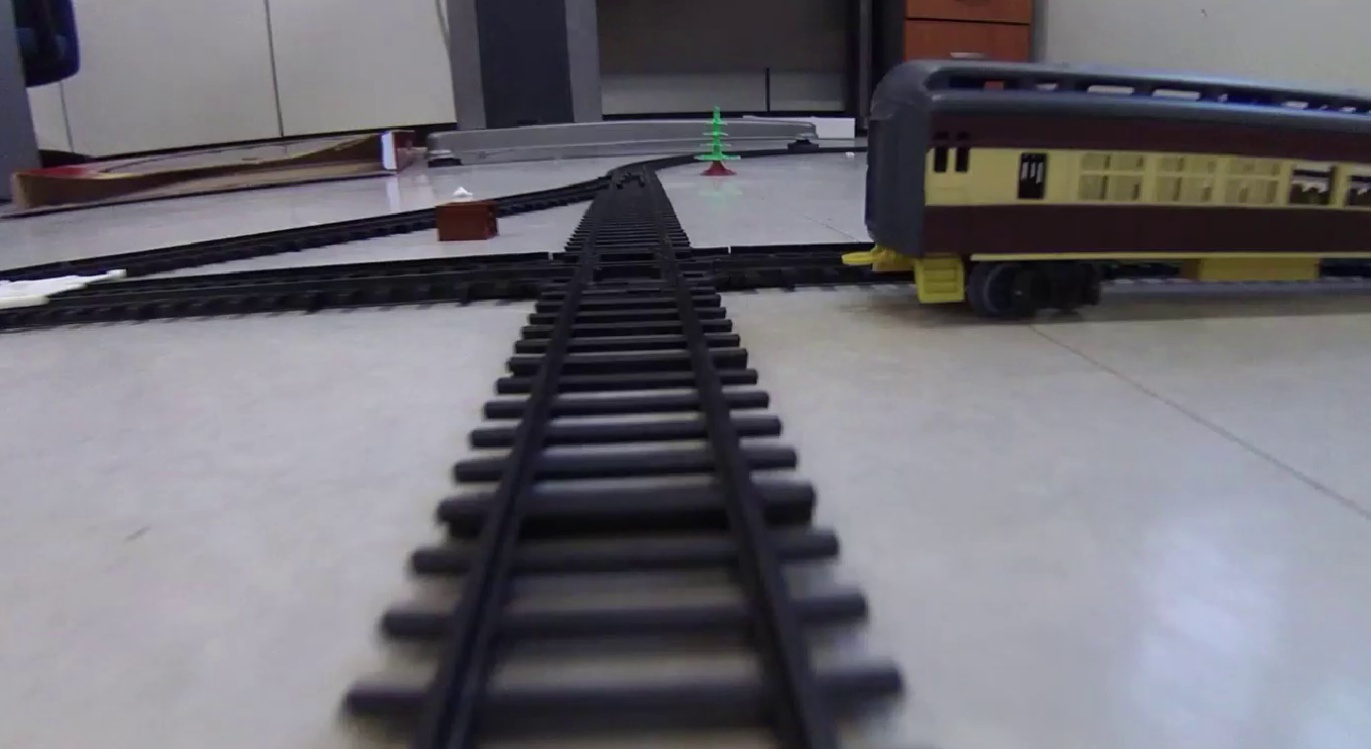box: (436, 201, 499, 242)
tree: (693, 103, 746, 180)
